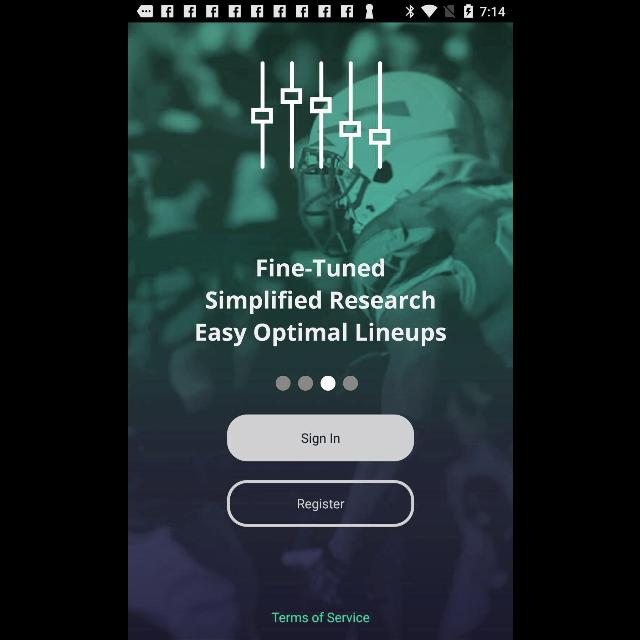backgroundimage: (128, 22, 512, 640)
image: (250, 61, 390, 169)
pageindicator: (274, 376, 358, 392)
text: (196, 258, 447, 348), (271, 612, 369, 624)
textbutton: (226, 414, 414, 462), (226, 480, 414, 528)
uppertaskbar: (128, 1, 512, 23)
